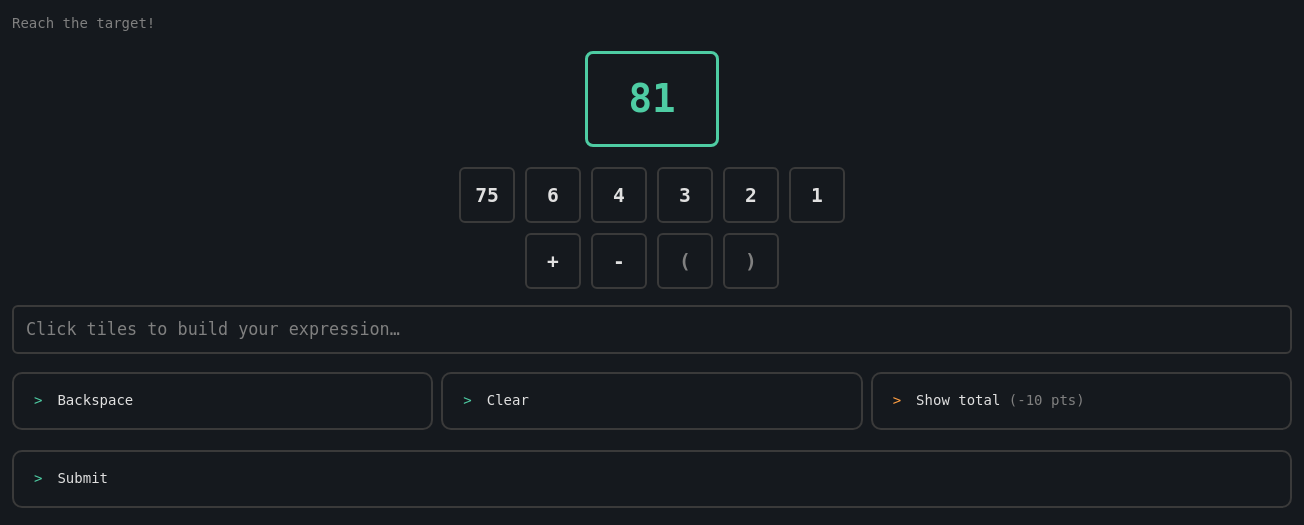
Test: CountdownPuzzle expression building › adds number token when tile is clicked
Click the button with test id "number-tile-0" at (487, 195), box [459,167,515,223]
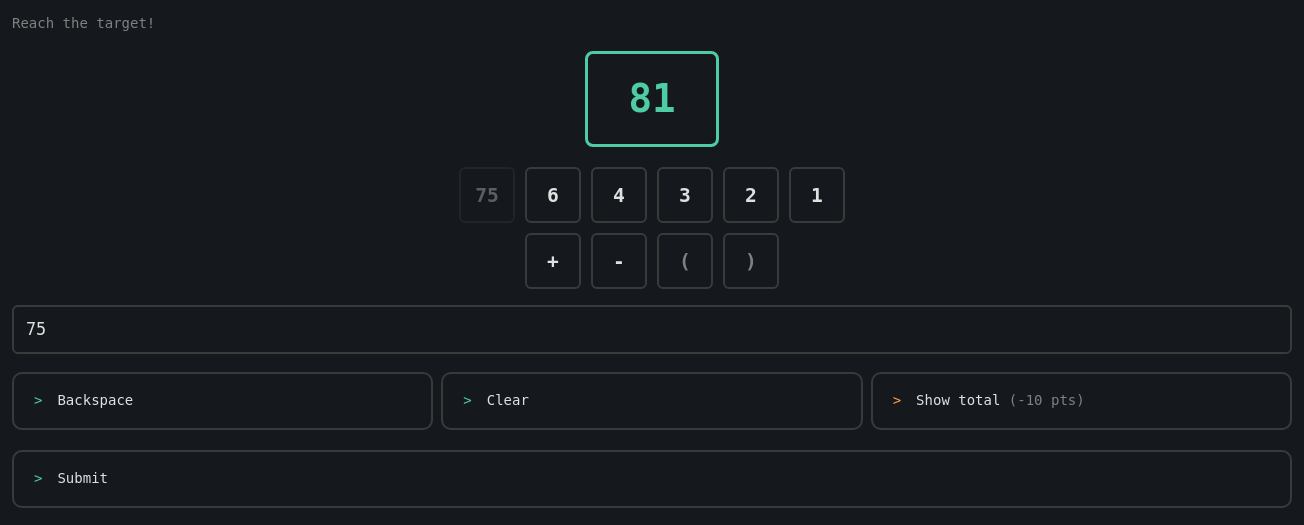
Result: the element with test id "expression-display" reads "75" at [26,319,46,339]
